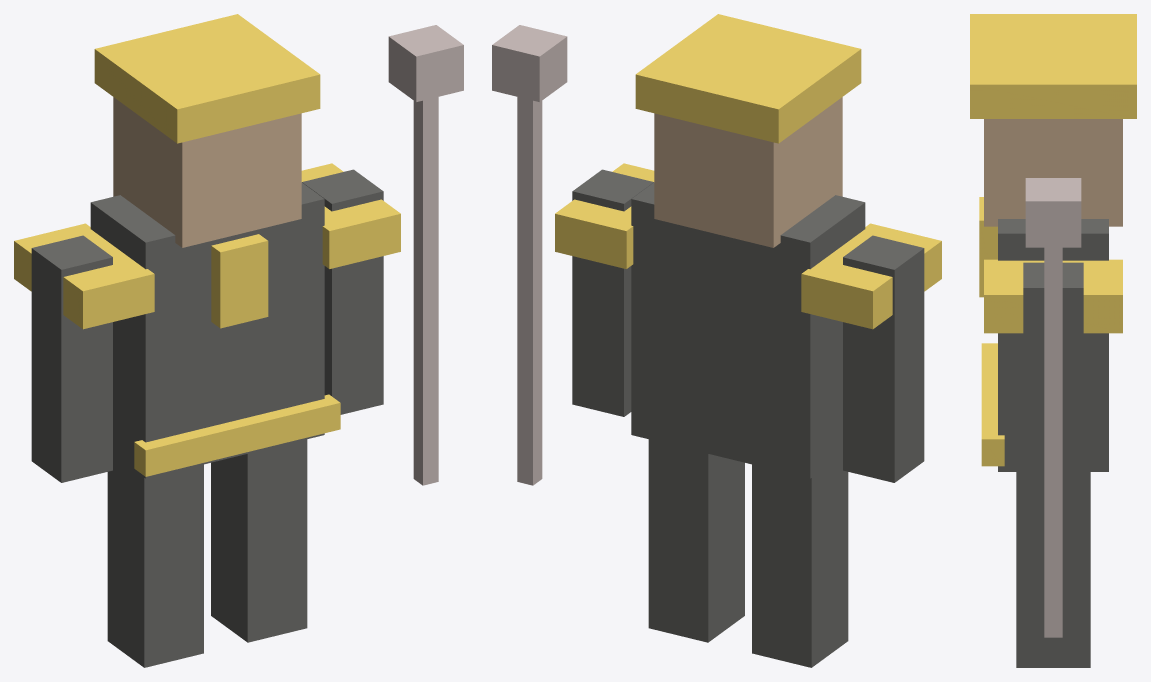
The model's file is 19_zerin_gravesong_keeper_from_zephyr.glb.
The picture shows the model from 3 angles, left to right: view 1: azimuth 30°, elevation 25°; view 2: azimuth 150°, elevation 25°; view 3: azimuth 270°, elevation 25°; orthographic projection.
Parts seen in each view (by area): view 1: Zerin Gravesong, Keeper from Zephyr; view 2: Zerin Gravesong, Keeper from Zephyr; view 3: Zerin Gravesong, Keeper from Zephyr.
Part boxes in pixels (left/top/right/bottom): Zerin Gravesong, Keeper from Zephyr: left=14, top=14, right=463, bottom=667; Zerin Gravesong, Keeper from Zephyr: left=492, top=14, right=941, bottom=667; Zerin Gravesong, Keeper from Zephyr: left=970, top=14, right=1136, bottom=667.
Size of the model in its own units: 1.05 by 1.43 by 0.3733.
